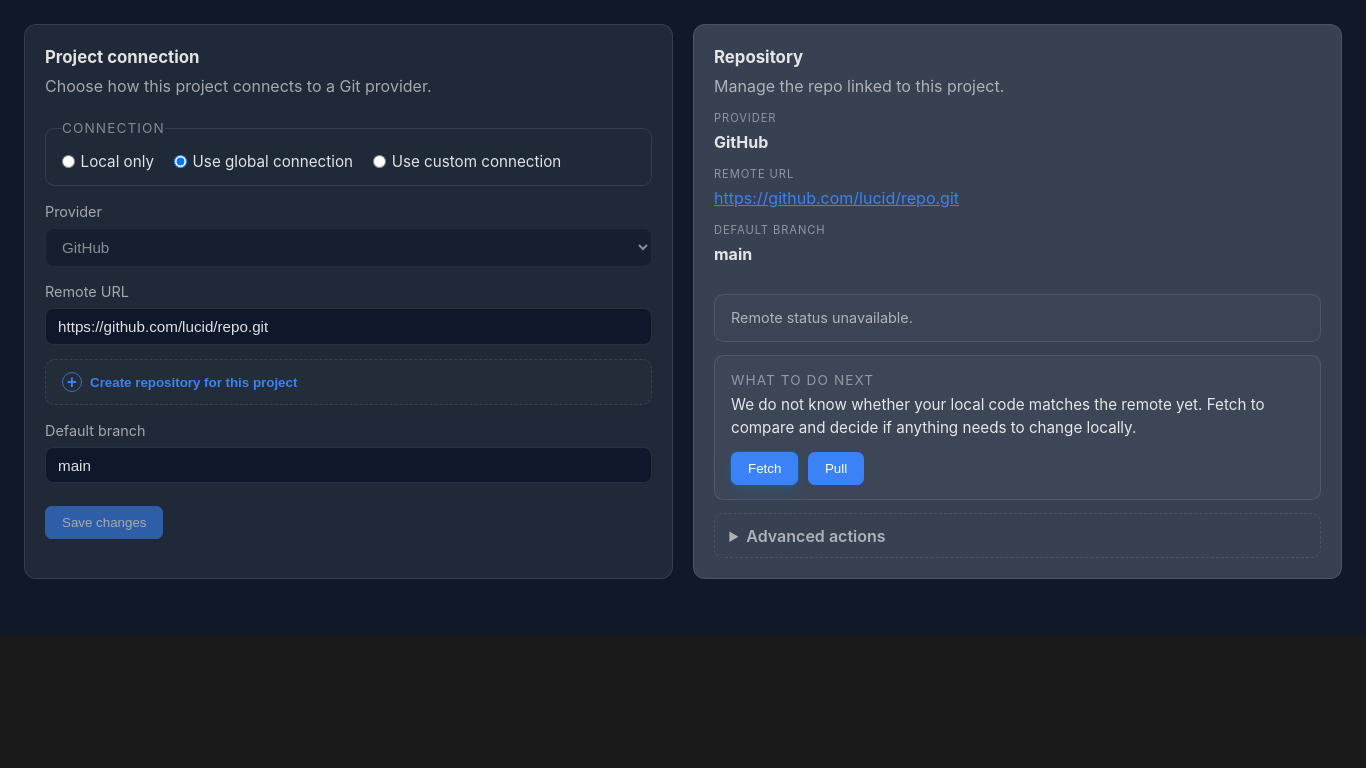
Test: GitTab › fetch remote falls back to default error copy
Click the button with test id "git-fetch-remote". click: (765, 468)
box: [731,452,798,485]
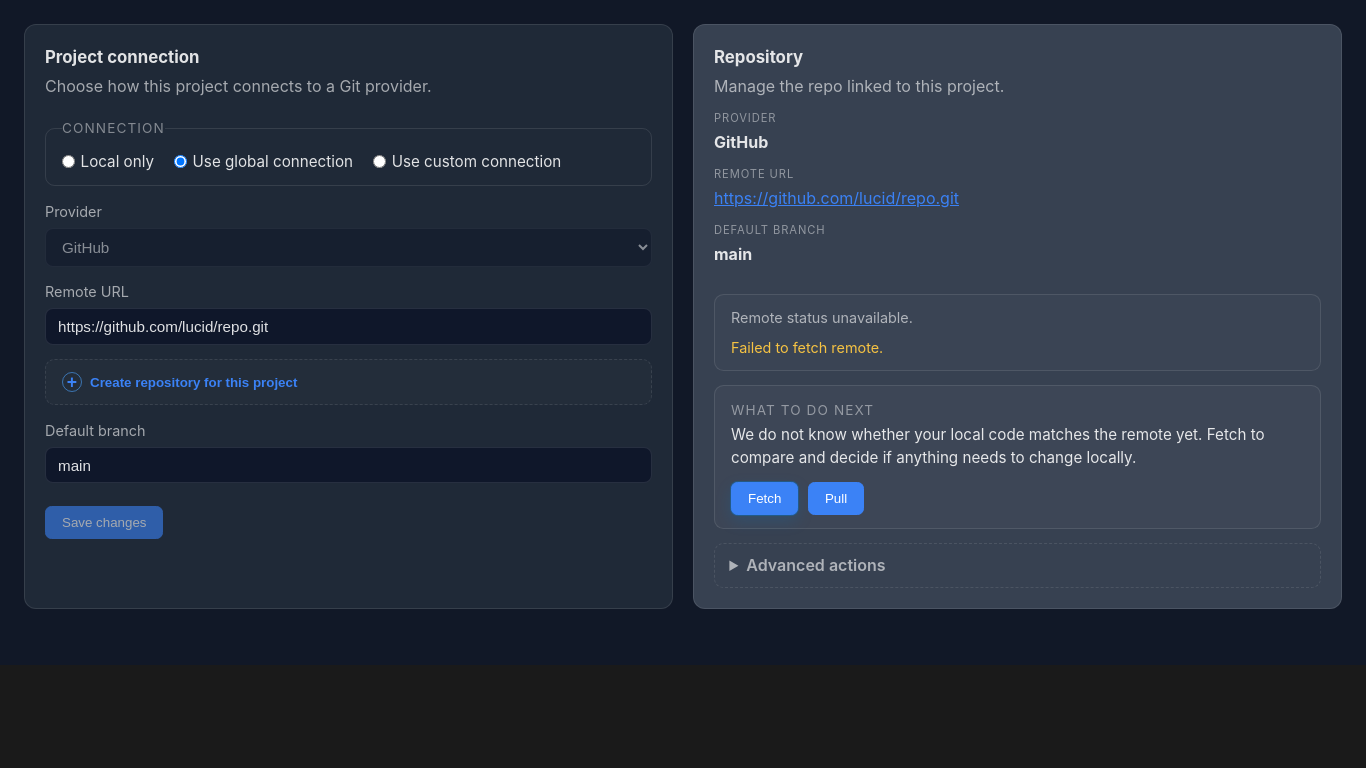
Check: the message reads "Failed to fetch remote.", box [731,339,883,356]
